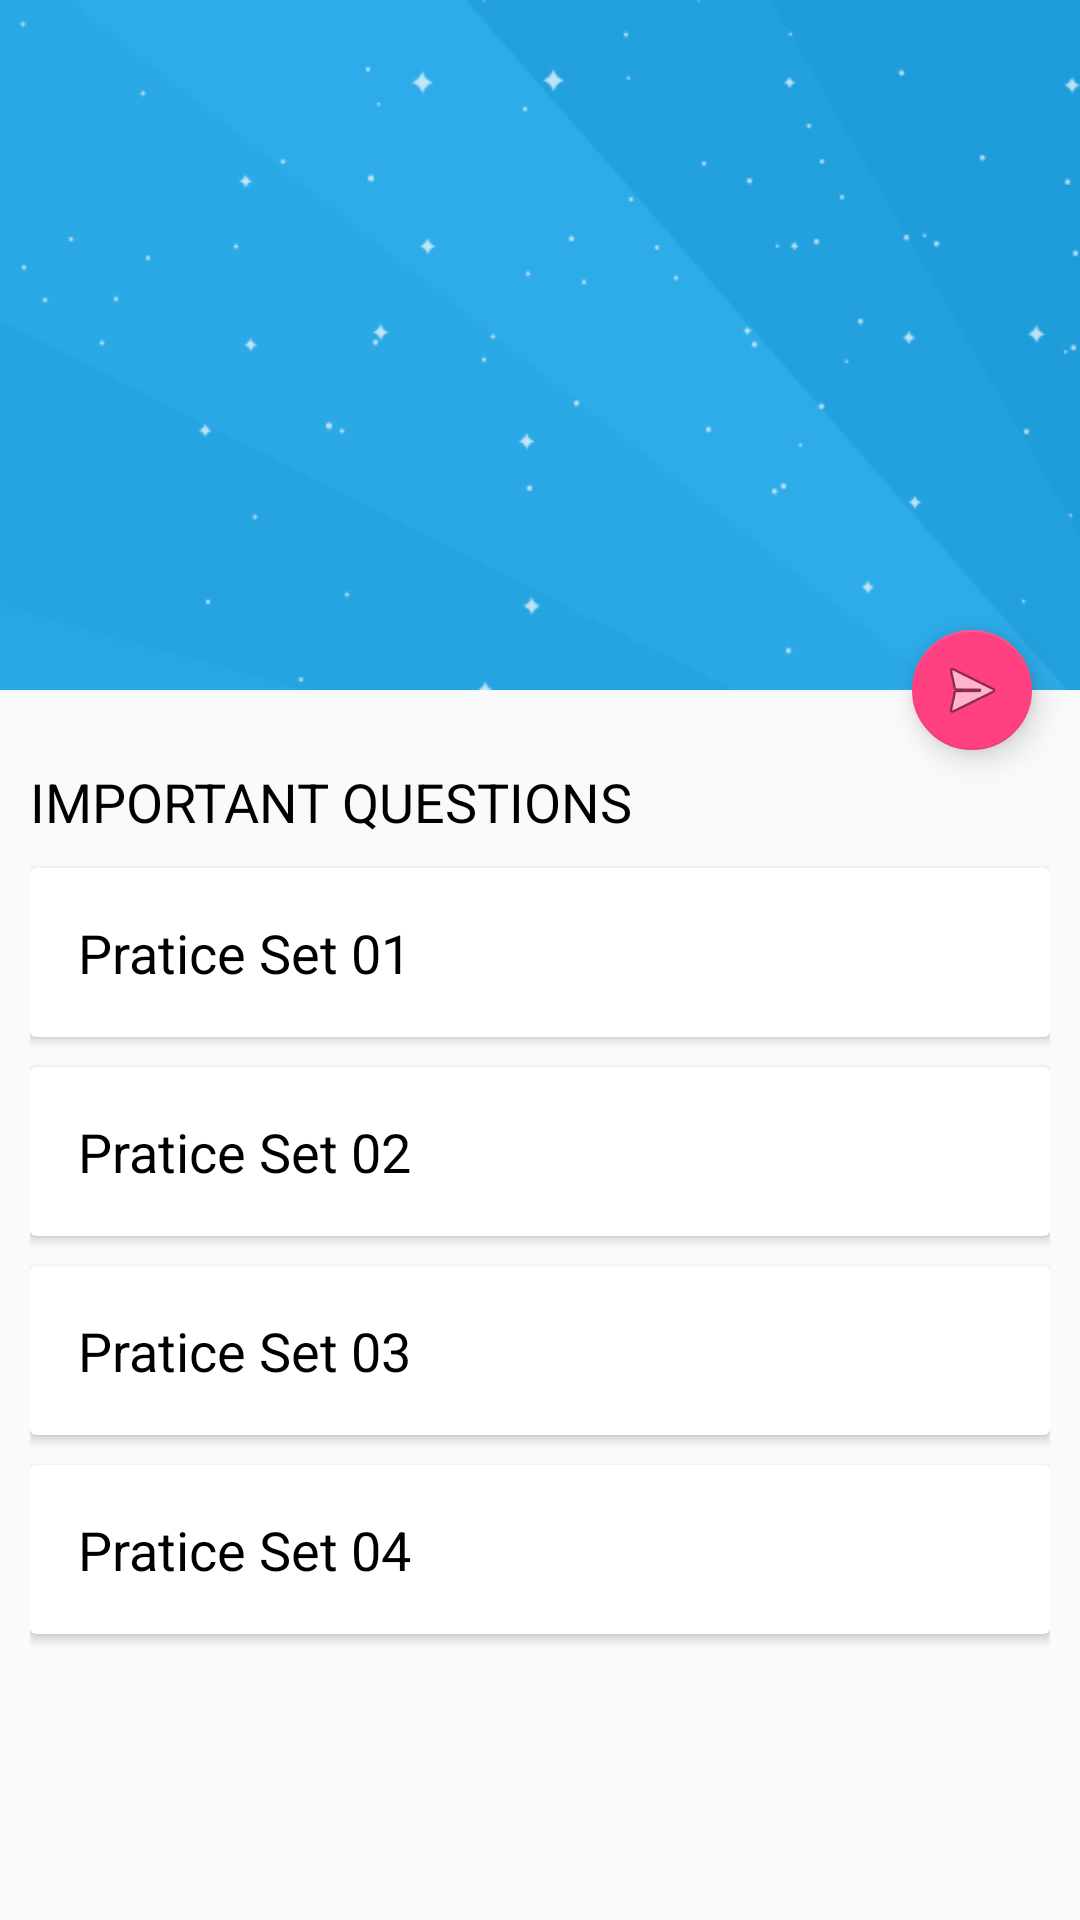

Where to tap for icons on this 1080x1920 app screen, as point (x, y):
send: point (972, 690)
